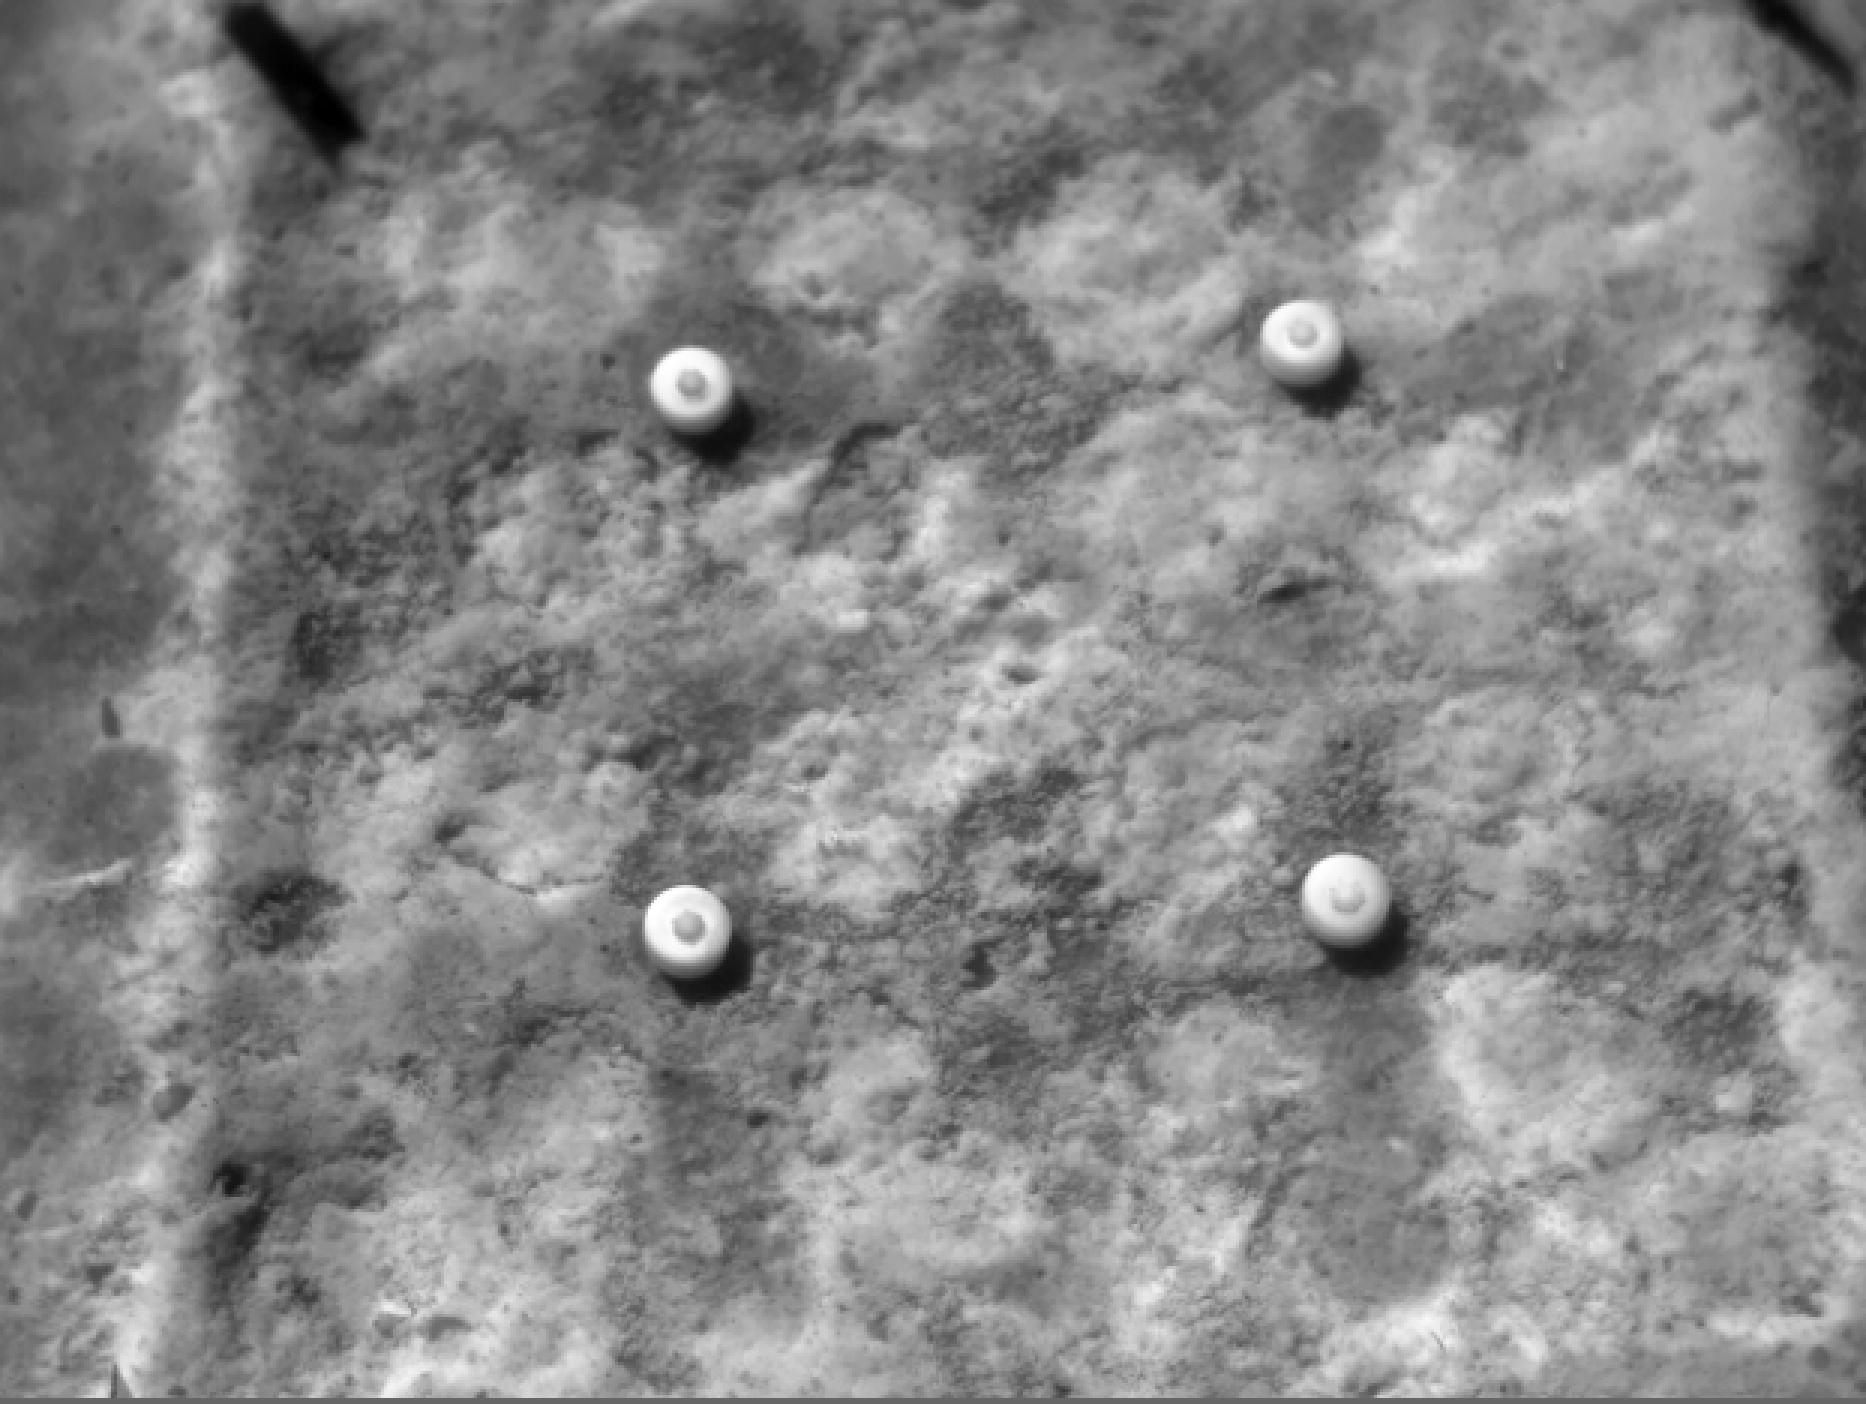mines-gjV8: (1303, 858, 1409, 954), (1263, 295, 1344, 395), (645, 877, 732, 967), (648, 345, 739, 428)
